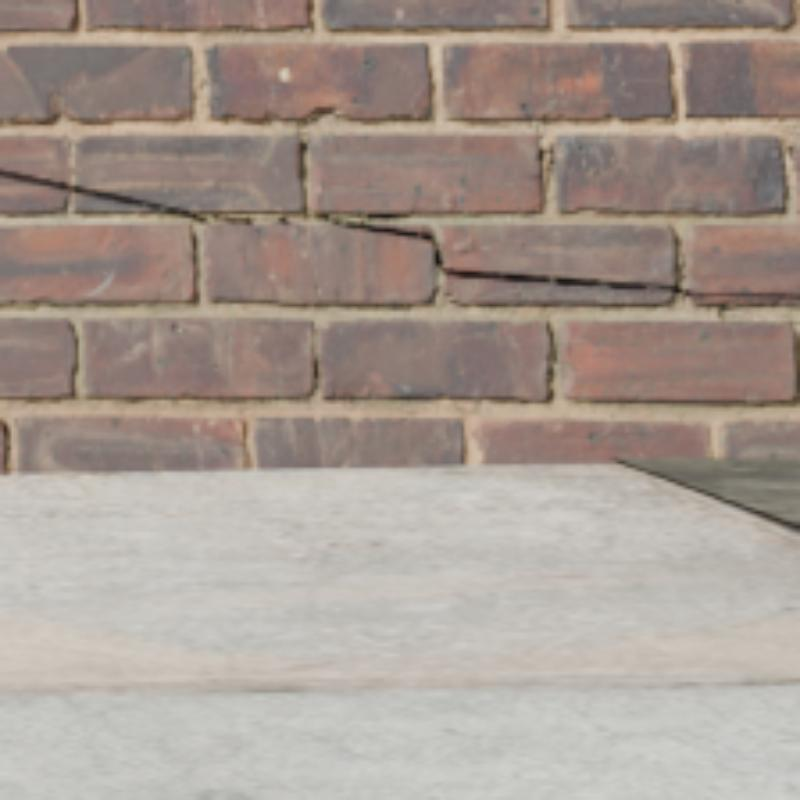crack: (0, 168, 796, 296)
